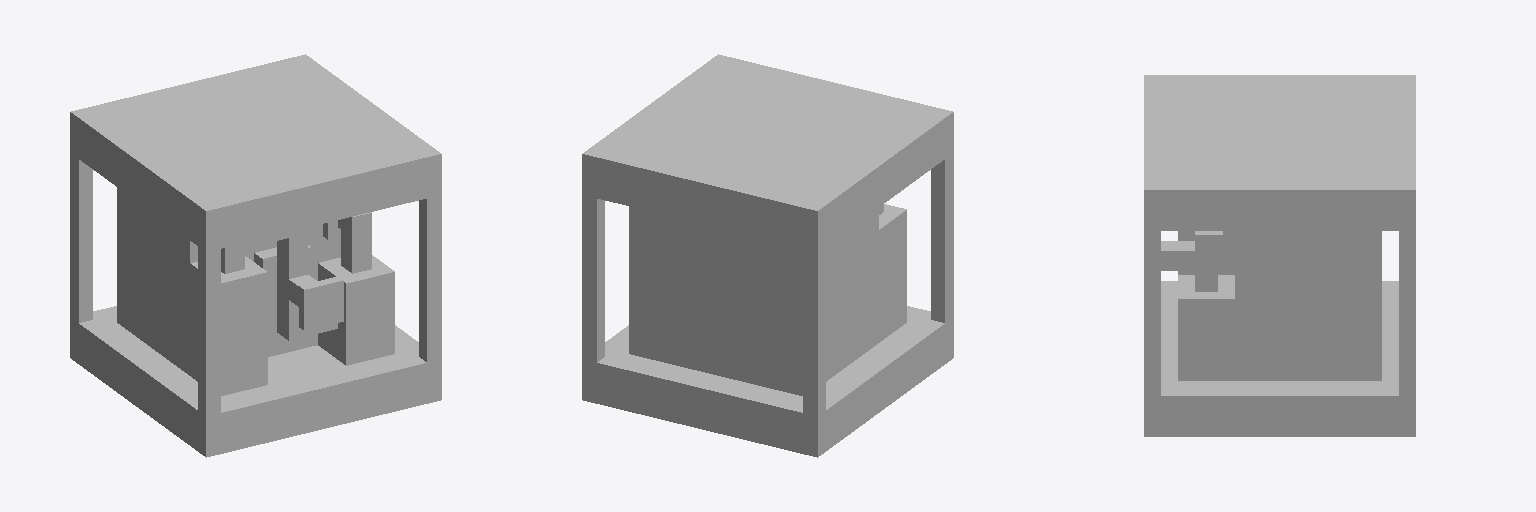
Rendered from coke_oven_model.obj.
The picture shows the model from 3 angles: view 1: azimuth 30°, elevation 25°; view 2: azimuth 150°, elevation 25°; view 3: azimuth 270°, elevation 25°; orthographic projection.
Parts seen in each view (by area): view 1: cube.021, cube.020, cube.040, cube.024, cube.025, cube.036, cube.039, cube.037, cube.023, cube.033, cube.026, cube.030 (+3 smaller); view 2: cube.021, cube.040, cube.020, cube.037, cube.038, cube.036, cube.024; view 3: cube.021, cube.040, cube.020, cube.025, cube.038, cube.039, cube.032, cube.026, cube.028.
Boxes of the visible parts, x1=… form: cube.021: x1=70, y1=54, x2=441, y2=251; cube.020: x1=70, y1=306, x2=441, y2=457; cube.040: x1=117, y1=187, x2=340, y2=375; cube.024: x1=190, y1=256, x2=267, y2=395; cube.025: x1=318, y1=255, x2=394, y2=365; cube.036: x1=198, y1=247, x2=220, y2=416; cube.039: x1=419, y1=195, x2=441, y2=362; cube.037: x1=70, y1=153, x2=92, y2=322; cube.023: x1=299, y1=276, x2=343, y2=330; cube.033: x1=277, y1=234, x2=307, y2=278; cube.026: x1=341, y1=230, x2=371, y2=273; cube.030: x1=254, y1=245, x2=311, y2=308; cube.021: x1=582, y1=54, x2=953, y2=251; cube.040: x1=629, y1=206, x2=878, y2=395; cube.020: x1=582, y1=306, x2=953, y2=457; cube.037: x1=803, y1=247, x2=825, y2=416; cube.038: x1=582, y1=195, x2=604, y2=362; cube.036: x1=931, y1=153, x2=953, y2=322; cube.024: x1=879, y1=204, x2=906, y2=342; cube.021: x1=1144, y1=75, x2=1415, y2=230; cube.040: x1=1235, y1=231, x2=1381, y2=380; cube.020: x1=1144, y1=281, x2=1415, y2=436; cube.025: x1=1178, y1=275, x2=1234, y2=380; cube.038: x1=1399, y1=231, x2=1415, y2=395; cube.039: x1=1144, y1=231, x2=1160, y2=395; cube.032: x1=1161, y1=241, x2=1194, y2=270; cube.026: x1=1195, y1=256, x2=1217, y2=291; cube.028: x1=1195, y1=231, x2=1217, y2=255.
Bounding box in the file's own units: 3 × 3 × 3.